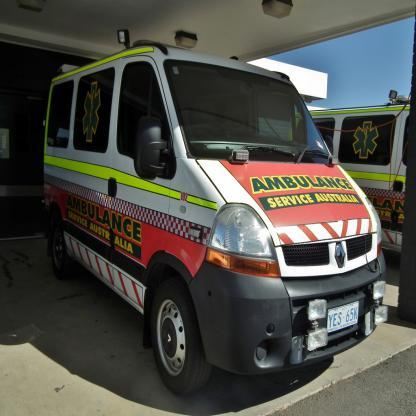ambulance: (34, 33, 388, 392), (292, 89, 412, 253)
